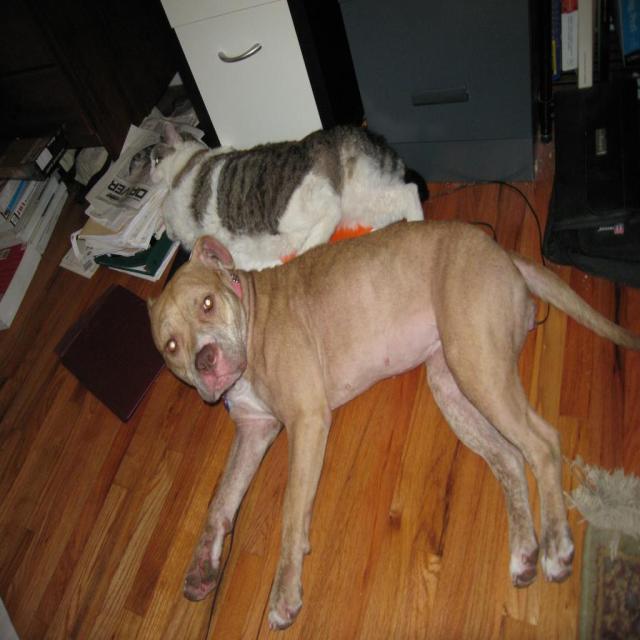Cat: (150, 120, 429, 258)
